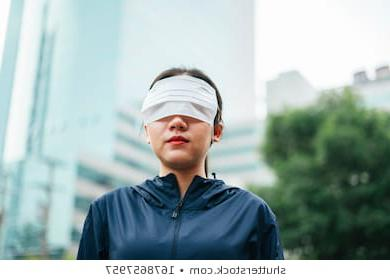mask_weared_incorrect: (150, 86, 209, 162)
